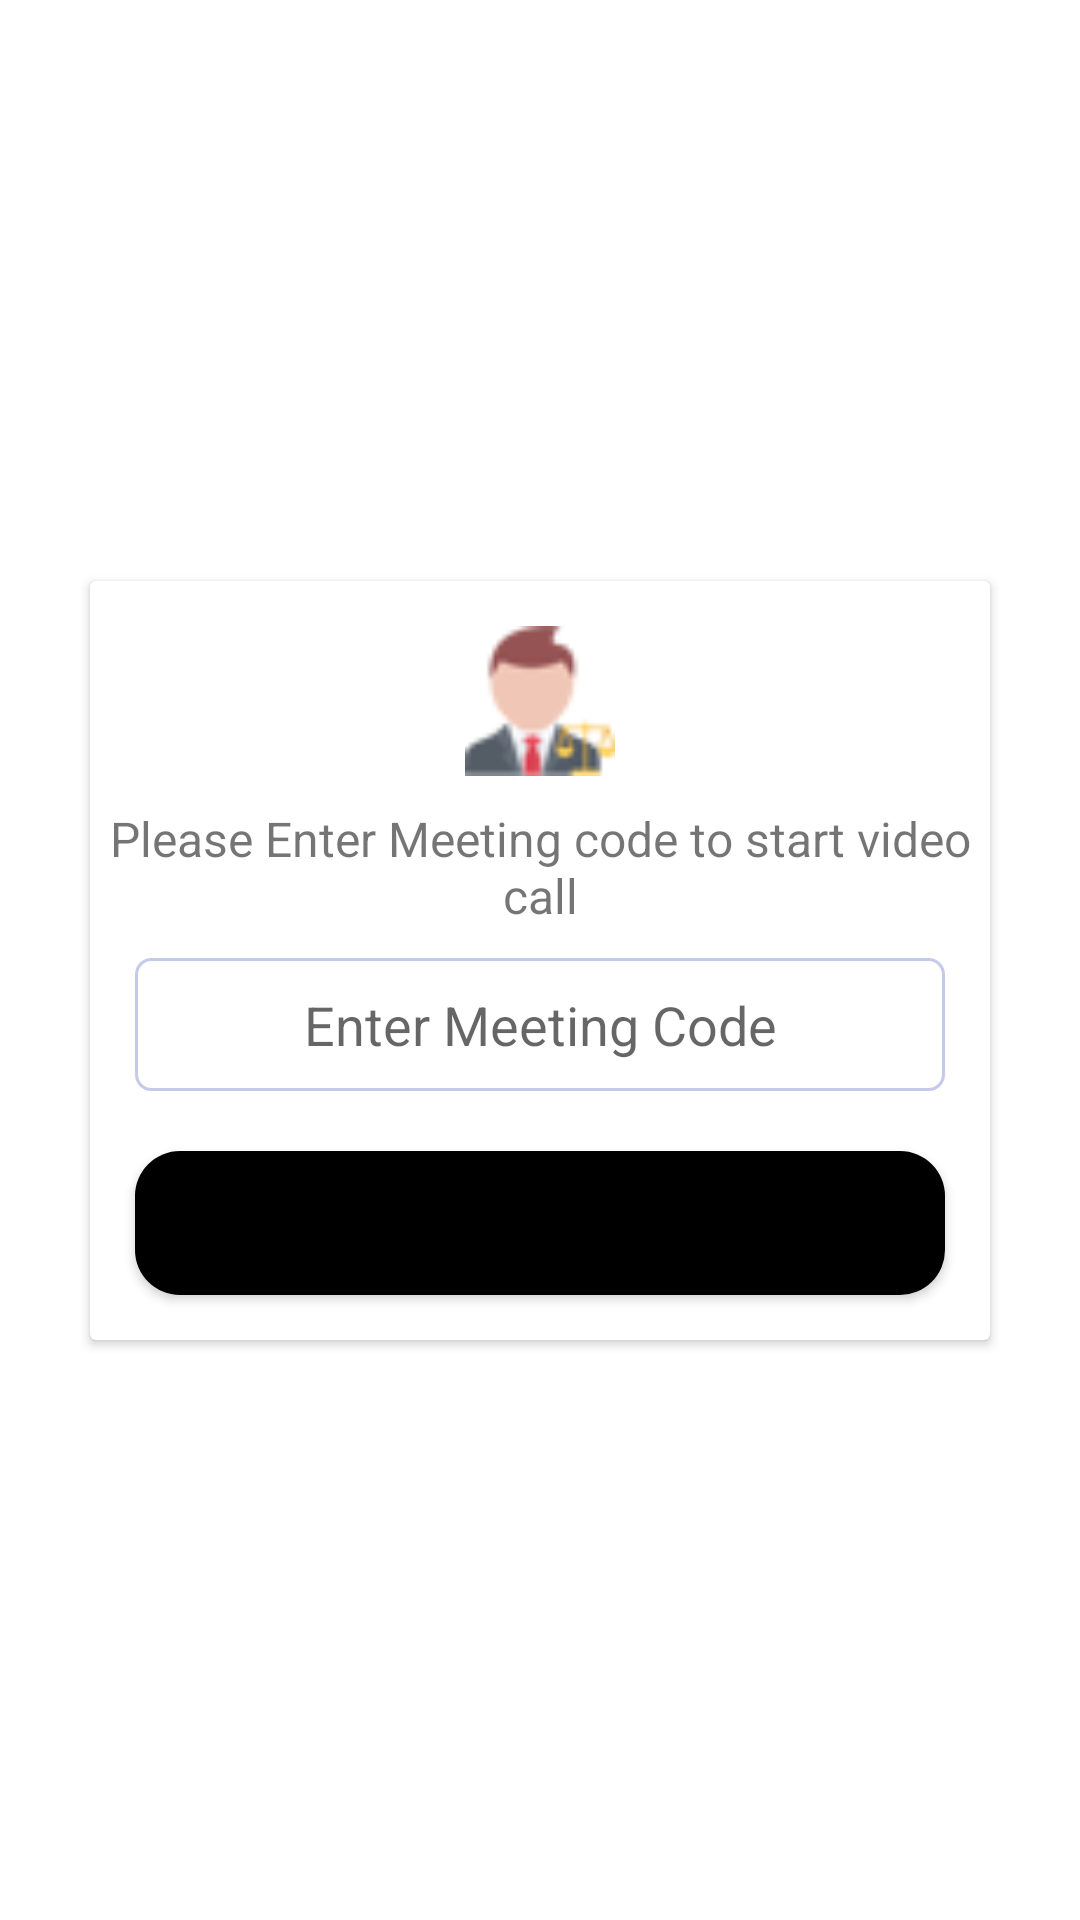

Where to tap for icons on this 1080×1920 app screen, as [x,y]:
lawyera: [540,701]
